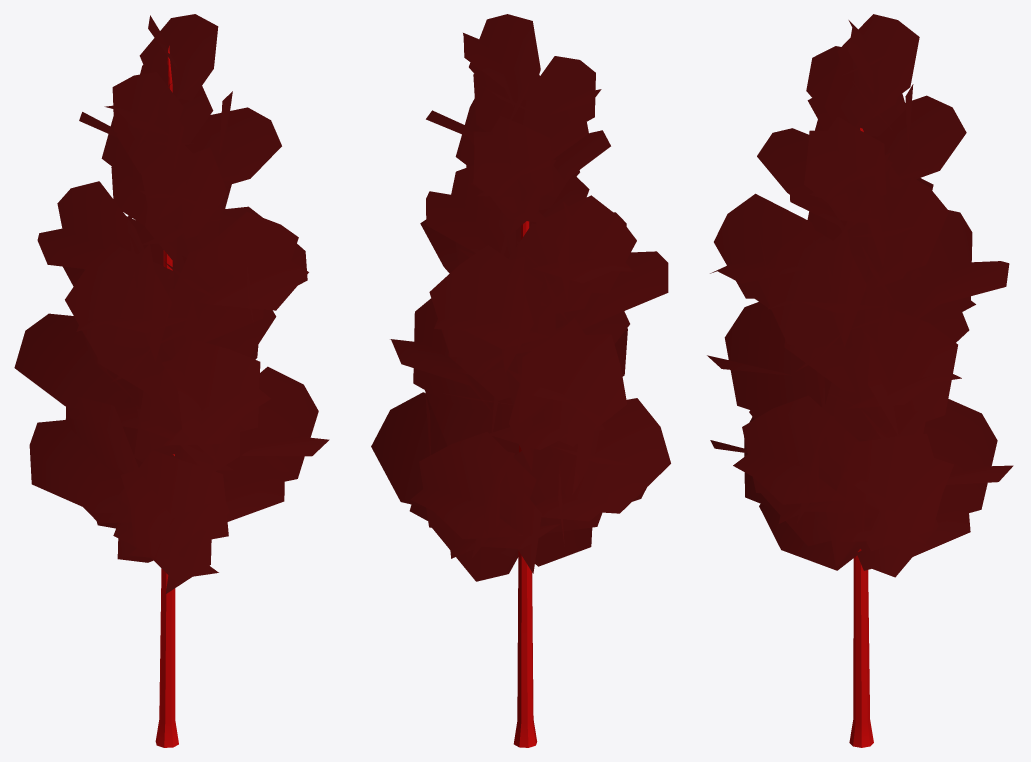
The model's file is SM_Tree_Birch_03.glb.
The picture shows the model from 3 angles, left to right: view 1: azimuth 30°, elevation 25°; view 2: azimuth 150°, elevation 25°; view 3: azimuth 270°, elevation 25°; orthographic projection.
Visible parts, largest first — view 1: SM_Tree_Birch_03; view 2: SM_Tree_Birch_03; view 3: SM_Tree_Birch_03.
Boxes of the visible parts, x1,y1,x2,y2 form: SM_Tree_Birch_03: (14,14,329,747); SM_Tree_Birch_03: (371,14,670,747); SM_Tree_Birch_03: (707,14,1013,747).
Size of the model in its own units: 2.14 by 5.4 by 2.11.
